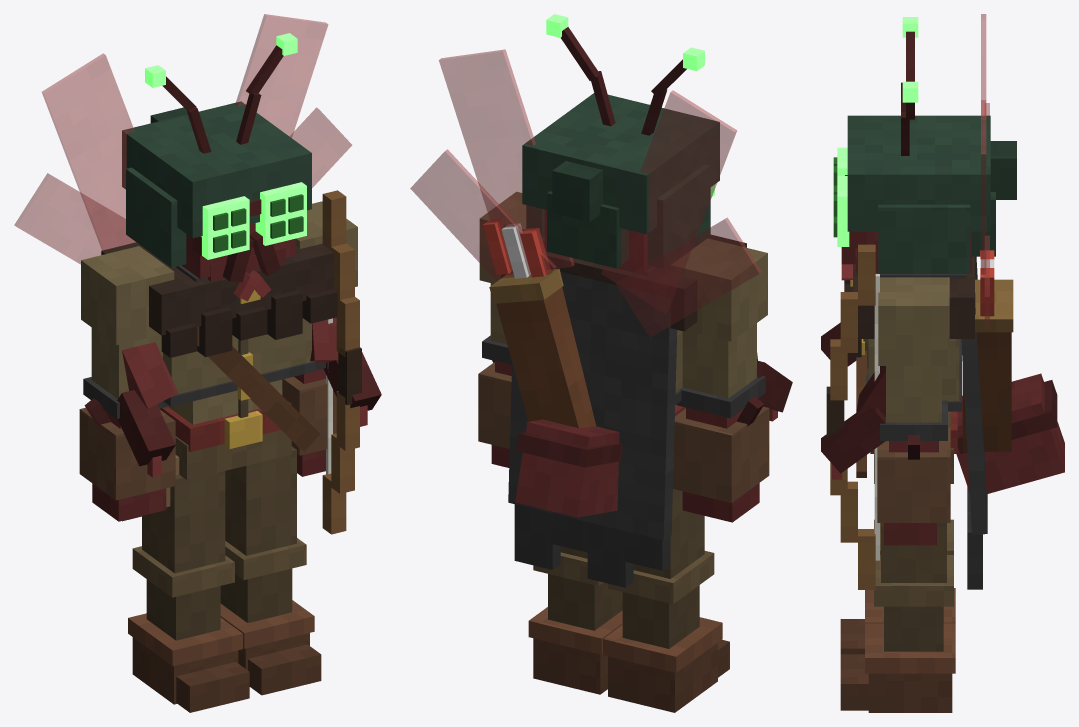
File: insectoid_chasseur.glb
The picture shows the model from 3 angles, left to right: view 1: azimuth 30°, elevation 25°; view 2: azimuth 150°, elevation 25°; view 3: azimuth 270°, elevation 25°; orthographic projection. The views are drawn at different scales.
Parts seen in each view (by area): view 1: Torso, Head, LegR, LegL, ArmR, HandL, ArmL; view 2: Torso, Head, ArmR, LegR, LegL, ArmL; view 3: Torso, Head, ArmL, LegL, HandL, LegR.
Part boxes in pixels (<box>): Torso: <box>14,14,381,521</box>; Head: <box>122,33,311,301</box>; LegR: <box>128,471,249,712</box>; LegL: <box>220,446,321,695</box>; ArmR: <box>79,246,175,521</box>; HandL: <box>322,190,361,534</box>; ArmL: <box>282,201,357,476</box>; Torso: <box>410,49,792,587</box>; Head: <box>522,14,719,272</box>; ArmR: <box>671,238,769,522</box>; LegR: <box>603,489,729,712</box>; LegL: <box>528,546,622,694</box>; ArmL: <box>478,192,544,467</box>; Torso: <box>821,14,1064,589</box>; Head: <box>833,17,1016,280</box>; ArmL: <box>877,277,950,545</box>; LegL: <box>840,523,955,712</box>; HandL: <box>826,244,879,589</box>; LegR: <box>840,519,955,654</box>.
Bounding box in the file's own units: 1.12 × 1.98 × 0.699.
43 materials, 43 textured.
